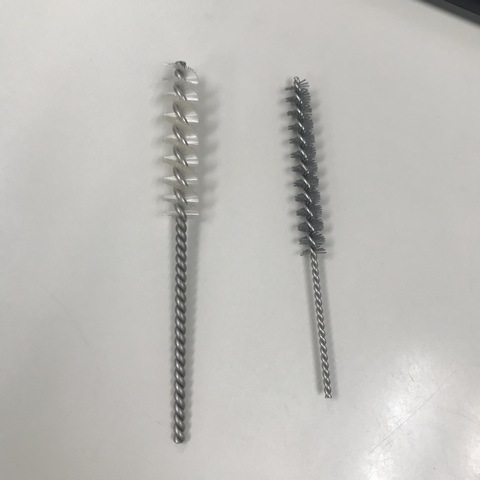Twist Brush-A: (281, 72, 346, 403)
Twist Brush-B: (156, 58, 207, 447)
